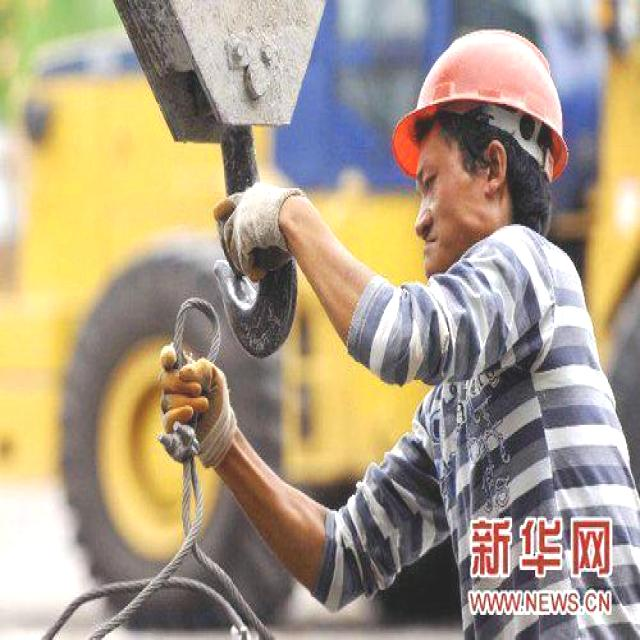face_nomask: (401, 136, 499, 276)
hand_glove: (155, 342, 243, 461), (214, 172, 317, 271)
head_helmet: (399, 25, 566, 169)
person: (344, 27, 639, 636)
